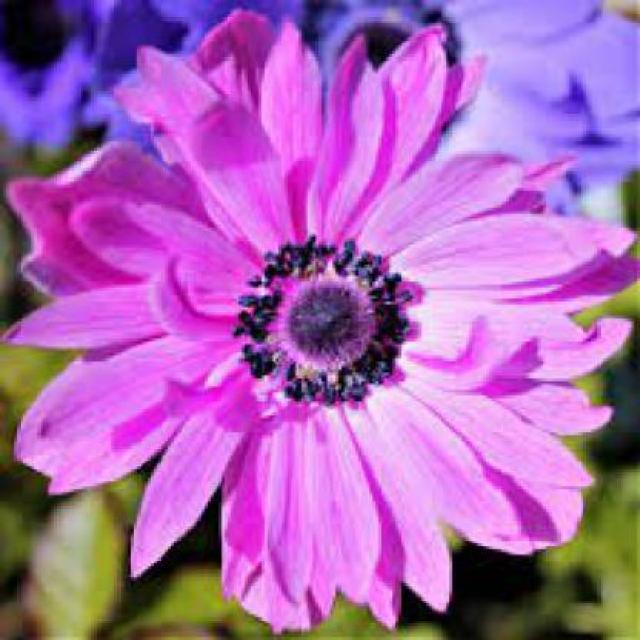Flower: (5, 9, 638, 638), (230, 236, 413, 404)
